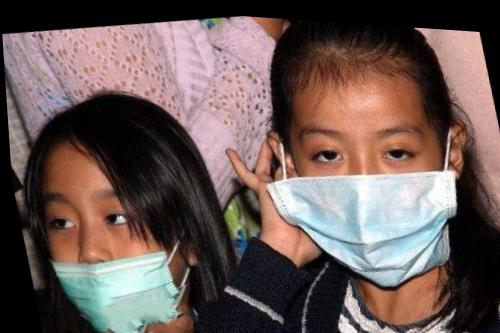OK: (281, 83, 457, 286)
WRONG: (34, 162, 186, 333)
